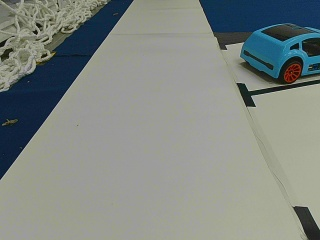car: (240, 22, 319, 83)
